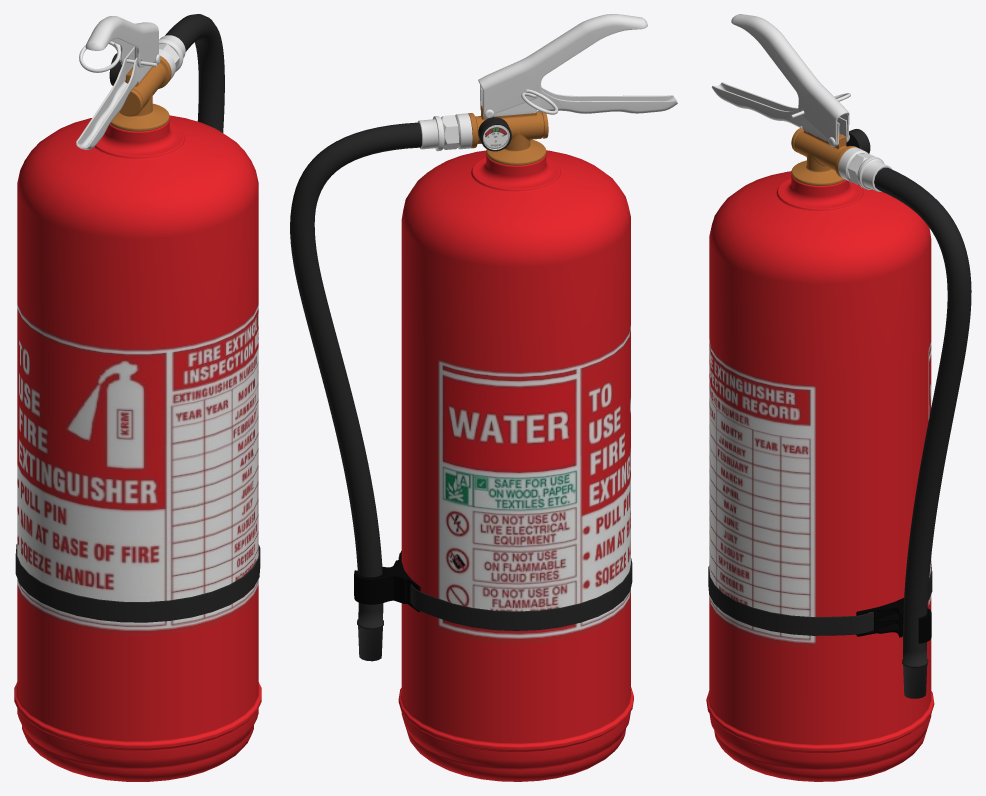
The model's file is Fire_extinguisher_export.fbx.
3 views of the same model, side by side, from view 1: azimuth 30°, elevation 25°; view 2: azimuth 150°, elevation 25°; view 3: azimuth 270°, elevation 25° (orthographic). The views are drawn at different scales.
Parts seen in each view (by area): view 1: Fire extinguisher; view 2: Fire extinguisher; view 3: Fire extinguisher.
Boxes of the visible parts, x1=… form: Fire extinguisher: x1=14, y1=14, x2=261, y2=781; Fire extinguisher: x1=290, y1=14, x2=677, y2=781; Fire extinguisher: x1=706, y1=14, x2=971, y2=781.
Bounding box in the file's own units: 240 × 631 × 217.
Materials: 7 (2 with a texture image).
